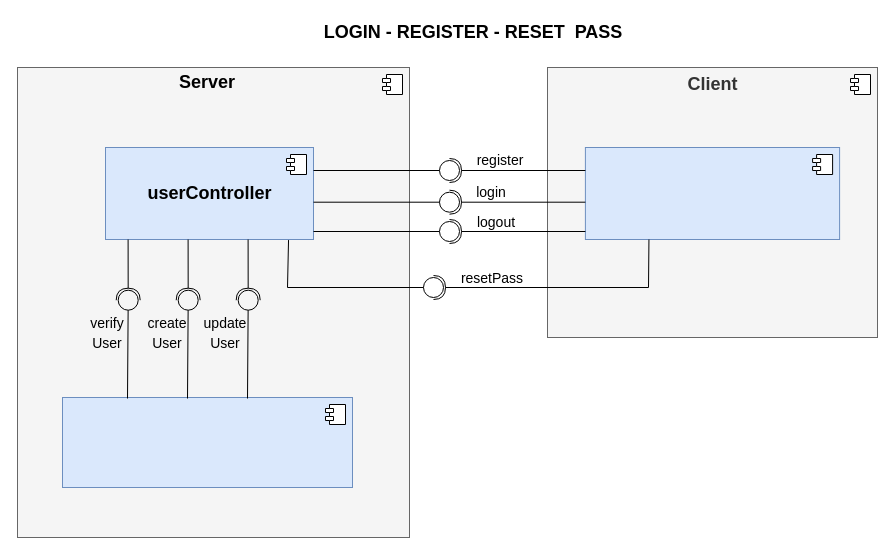
Image size: 895x555. Some labels were removed from this diagram. The shapes that lost their labels are listed below. From the top down, each one's box as (x1, y1, x2, y2) in pixels, then its label:
(584, 146, 840, 240): Login-Register-ResetPass Screen
(62, 396, 352, 488): userModel
